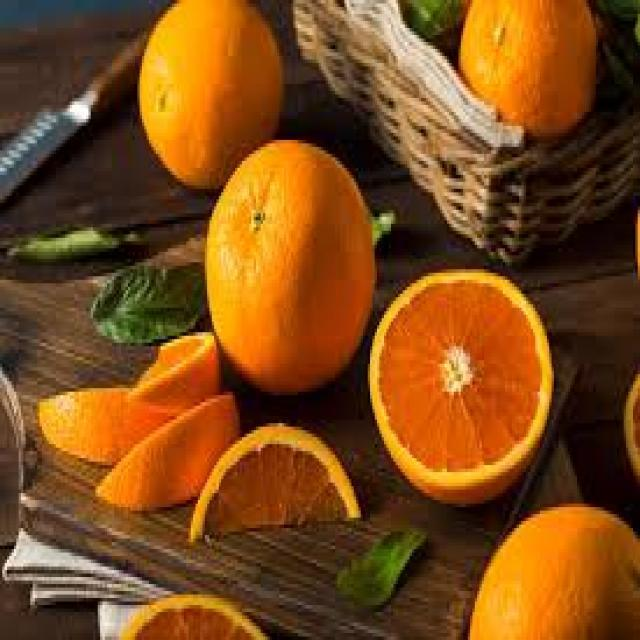Orange: (202, 136, 377, 392), (366, 266, 554, 504), (137, 0, 284, 189), (468, 500, 638, 637), (188, 420, 360, 542), (456, 0, 596, 140), (116, 591, 272, 637), (621, 342, 638, 510)
